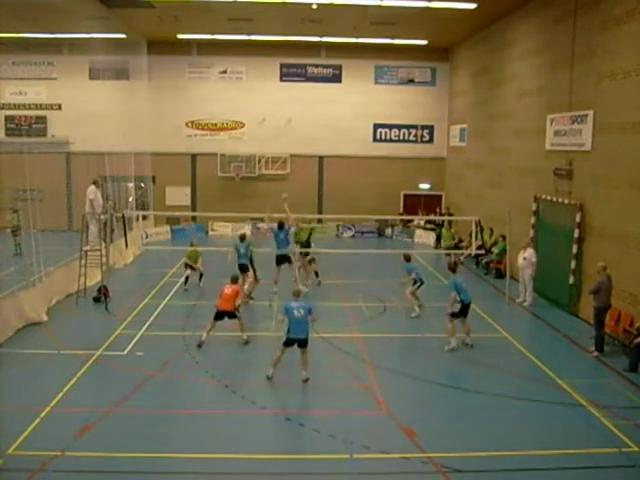Block: (260, 192, 314, 295)
Player: (266, 288, 314, 382), (197, 274, 248, 348), (445, 261, 472, 350), (294, 226, 320, 285), (234, 232, 256, 299), (402, 253, 423, 317), (184, 240, 203, 290)
ball: (280, 190, 290, 202)
